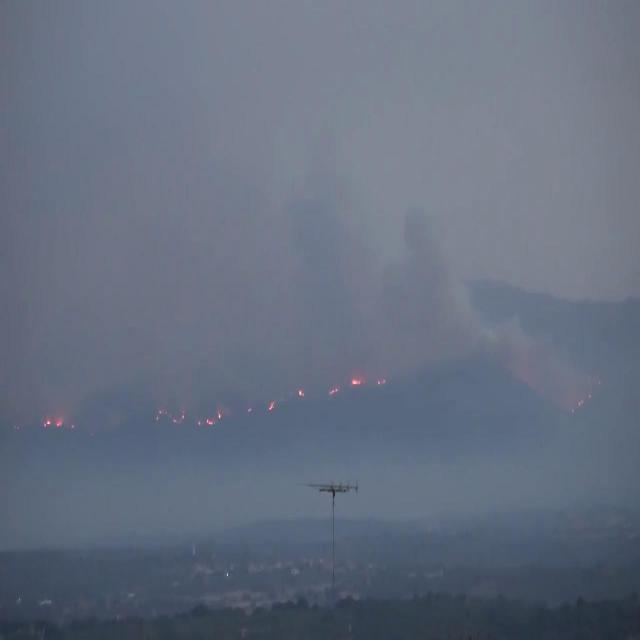Fire: (351, 374, 364, 388), (330, 384, 340, 398), (42, 416, 52, 429), (268, 398, 276, 412), (206, 416, 214, 427), (55, 420, 62, 428), (298, 389, 306, 396), (217, 408, 222, 419)
